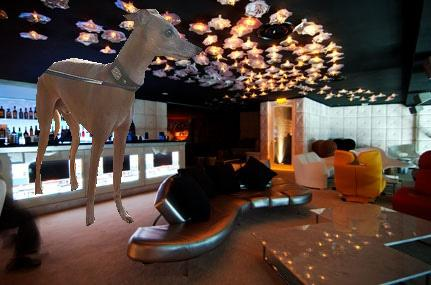tampered: (36, 10, 202, 226)
